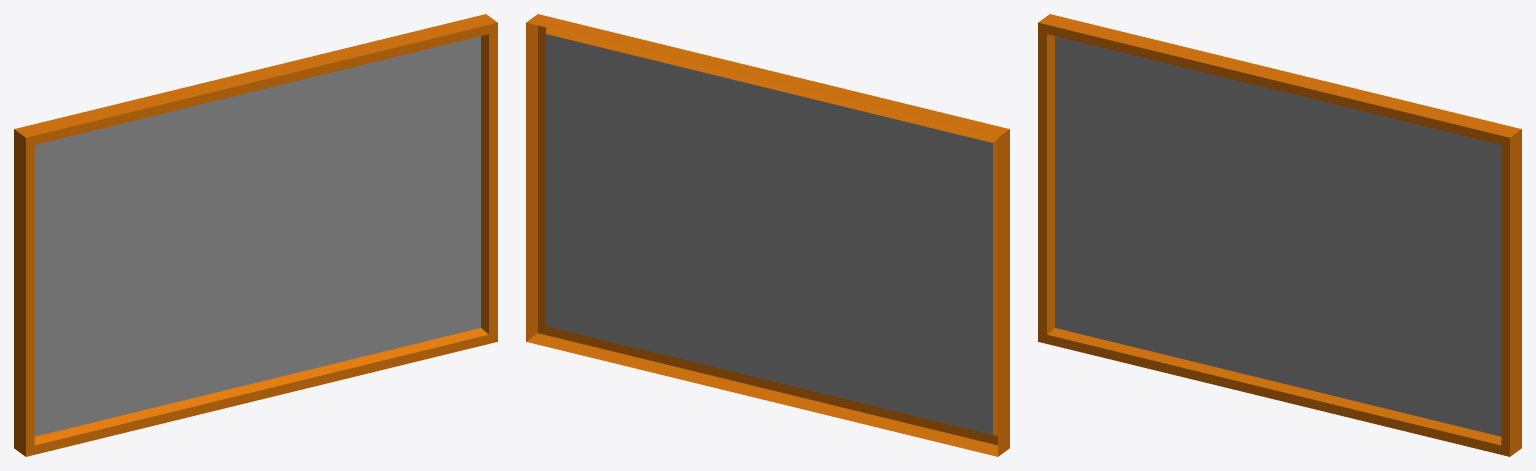
File: Pantalla.FBX
3 renders of one model, left to right at view 1: azimuth 30°, elevation 25°; view 2: azimuth 150°, elevation 25°; view 3: azimuth 330°, elevation 25°, orthographic.
Parts seen in each view (by area): view 1: Box007; view 2: Box007; view 3: Box007.
Part boxes in pixels (x1,y1,x2,y2): Box007: [14, 14, 497, 456]; Box007: [526, 14, 1009, 456]; Box007: [1038, 14, 1521, 456].
Bounding box in the file's own units: 254 × 164 × 11.
